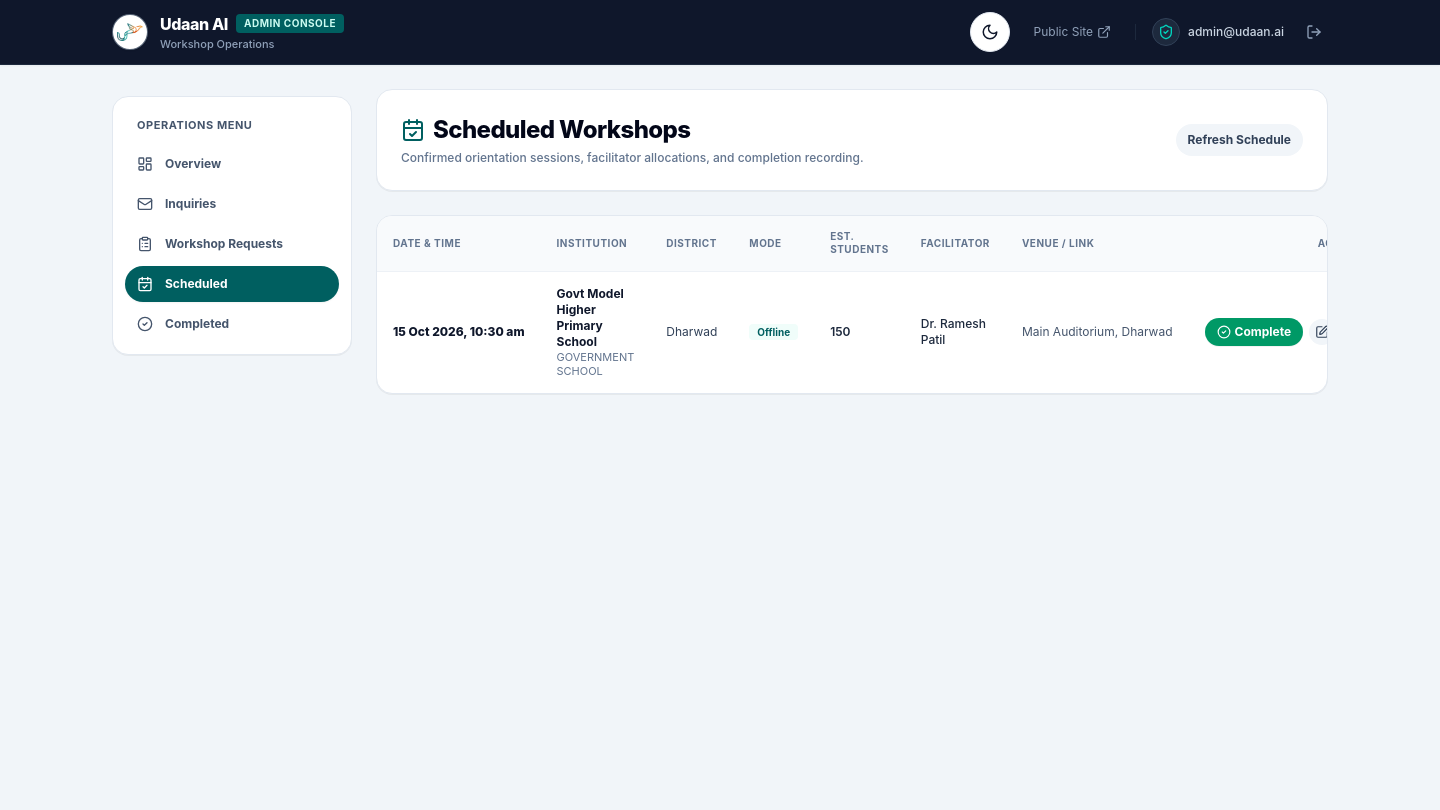
Test case: AdminScheduledPage Cancellation Recovery › AdminScheduledPage Workshop Completion › shows premature completion warning banner and disables completion submission before scheduled start time
Check: the text "Govt Model Higher Primary School" is shown, box left=556, top=286, right=634, bottom=350
Click "Complete" action button
Click the button "Complete" at (1254, 332), box left=1204, top=318, right=1303, bottom=346
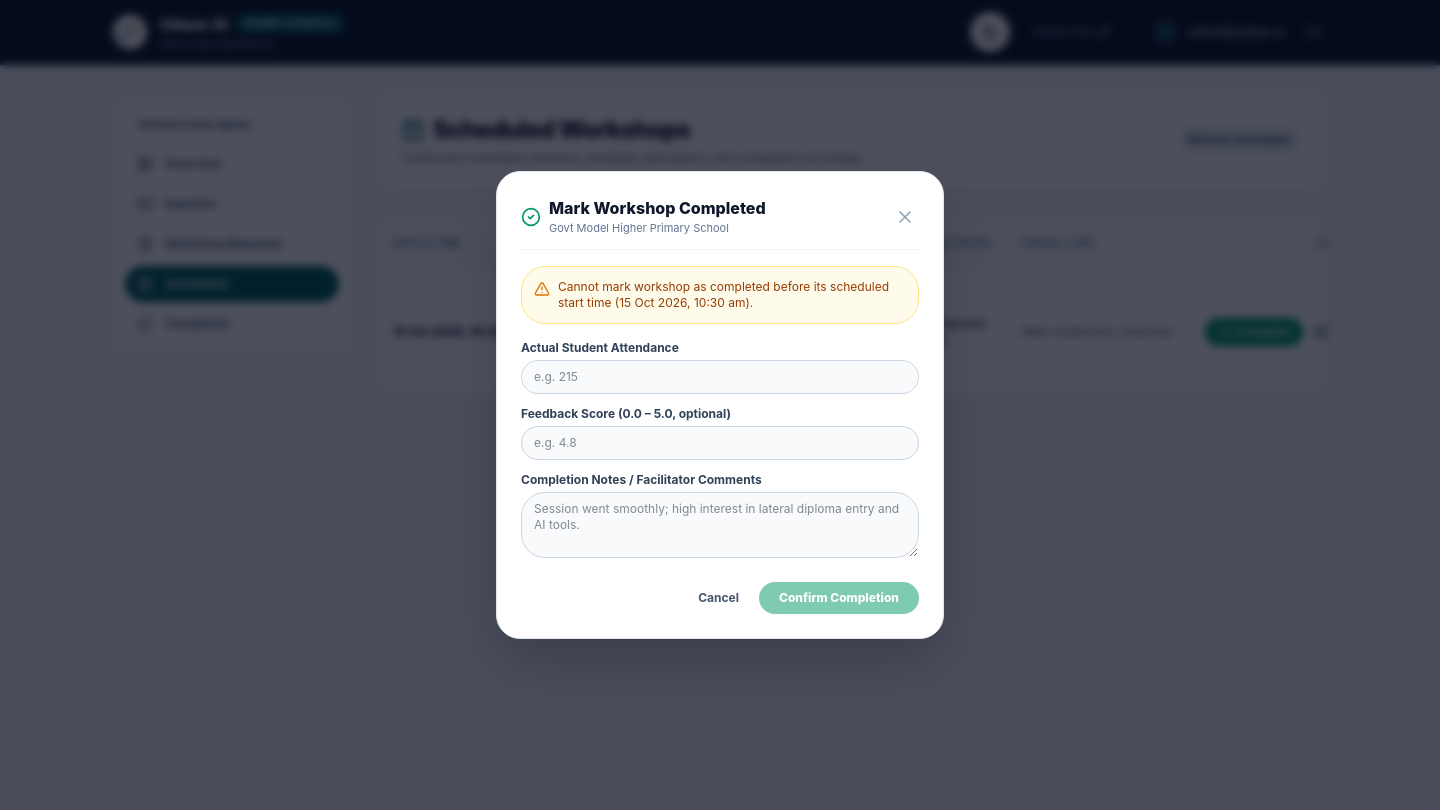
Check: the heading "Mark Workshop Completed" is shown, box left=549, top=196, right=766, bottom=220
Check: the text "Cannot mark workshop as completed before its scheduled start time" is shown, box left=558, top=279, right=889, bottom=310
Check: the button "Confirm Completion" is disabled, box left=759, top=582, right=919, bottom=614
